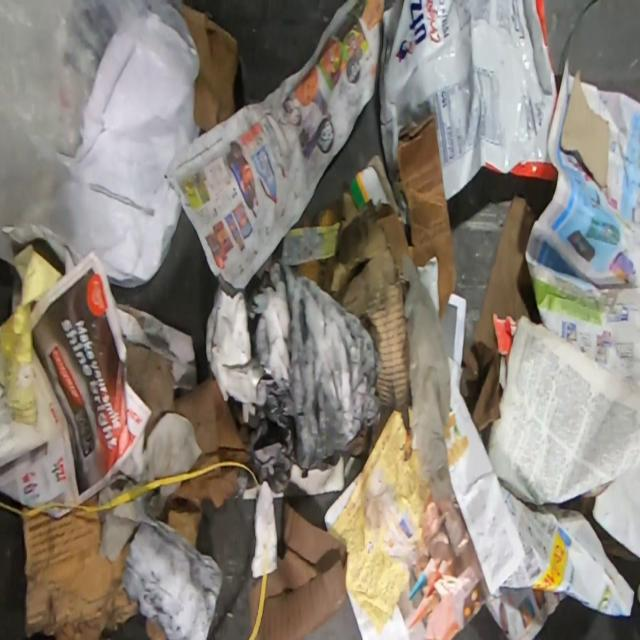cardboard: (276, 112, 456, 411), (23, 493, 139, 639), (248, 501, 346, 638), (560, 68, 610, 187), (158, 496, 204, 547)
soft_plastic: (1, 0, 200, 288), (376, 0, 558, 203)
